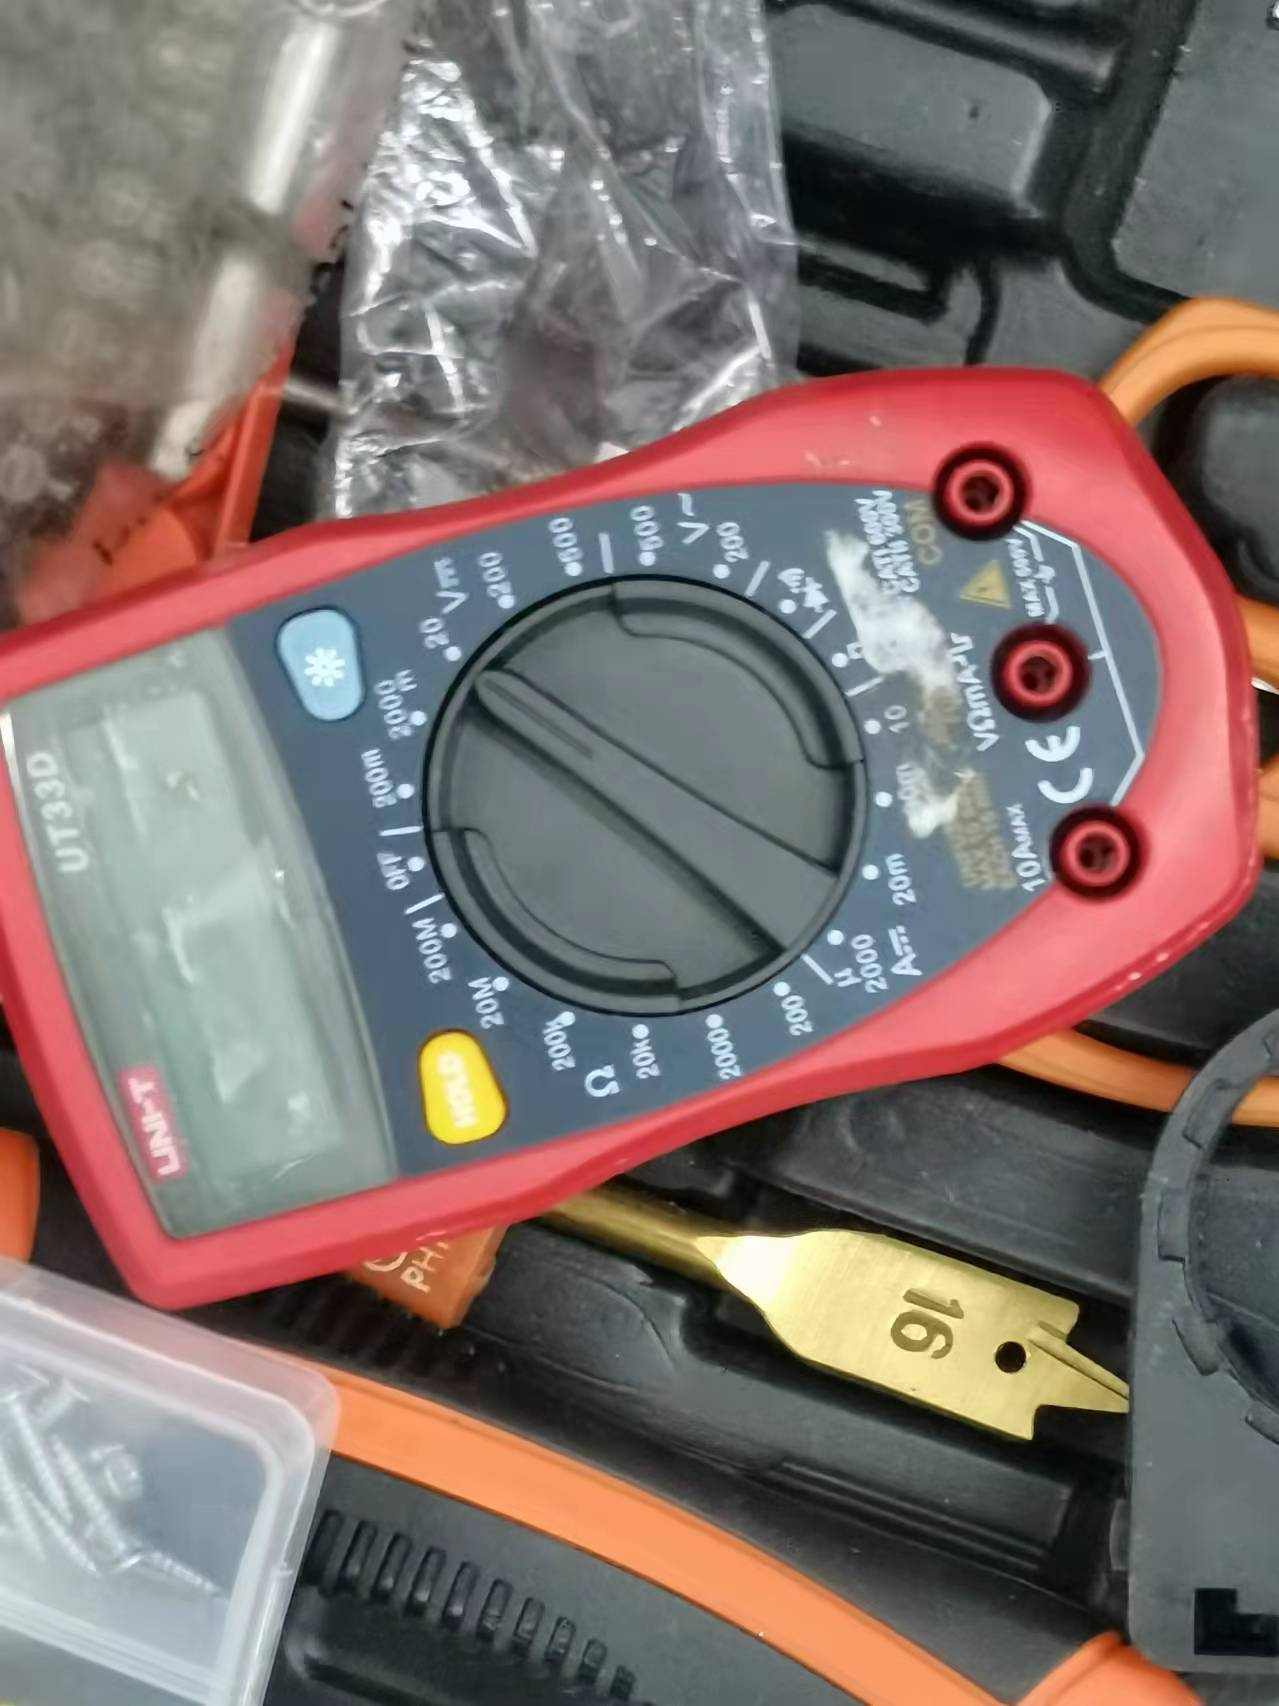Multimeter: (23, 371, 1263, 1307)
